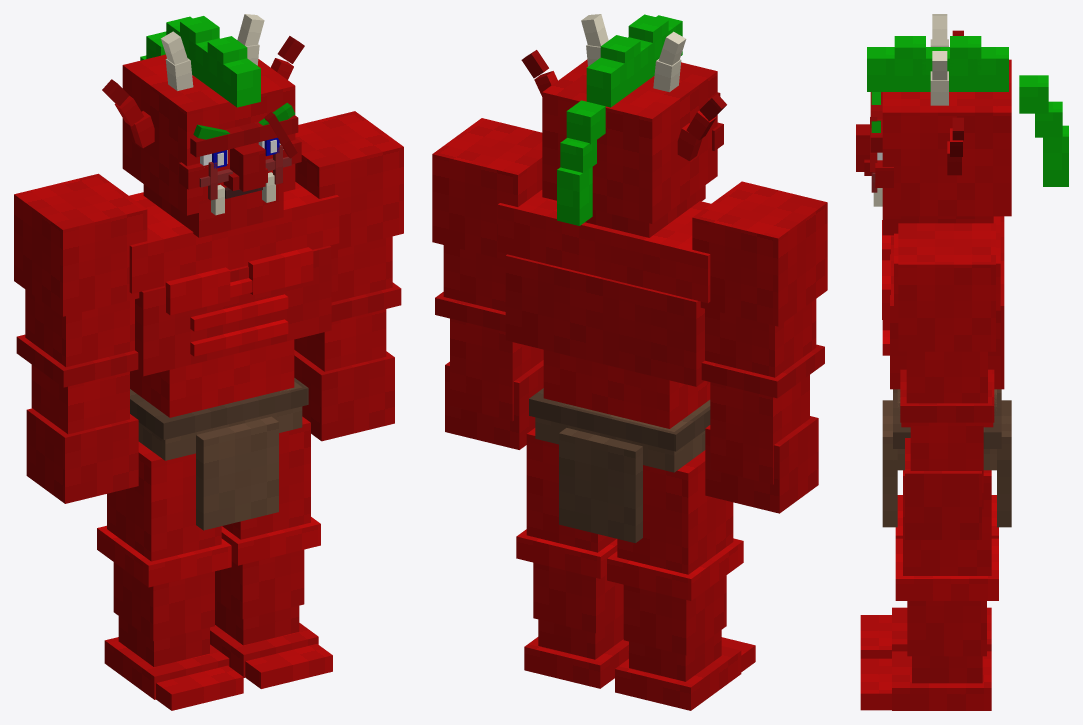
The model's file is hobgoblin_s2_evo1.glb.
3 renders of one model, left to right at view 1: azimuth 30°, elevation 25°; view 2: azimuth 150°, elevation 25°; view 3: azimuth 270°, elevation 25°, orthographic.
Visible parts, largest first — view 1: Torso, ArmR, Head, ArmL, LegR, LegL; view 2: Torso, ArmR, Head, ArmL, LegR, LegL; view 3: Head, ArmL, LegL, Torso, LegR.
Part boxes in pixels (x1,y1,x2,y2): Torso: (129, 182, 339, 530); ArmR: (14, 173, 147, 503); Head: (102, 14, 304, 237); ArmL: (294, 111, 403, 441); LegR: (97, 442, 243, 710); LegL: (210, 416, 332, 688); Torso: (497, 190, 710, 543); ArmR: (692, 181, 827, 513); Head: (521, 14, 726, 237); ArmL: (432, 118, 543, 449); LegR: (607, 450, 755, 710); LegL: (516, 428, 628, 688); Head: (856, 14, 1068, 235); ArmL: (898, 223, 995, 539); LegL: (860, 470, 998, 710); Torso: (882, 216, 1011, 527); LegR: (860, 495, 998, 658).
Size of the model in its own units: 1.07 by 1.91 by 0.5775.
29 materials, 29 textured.
